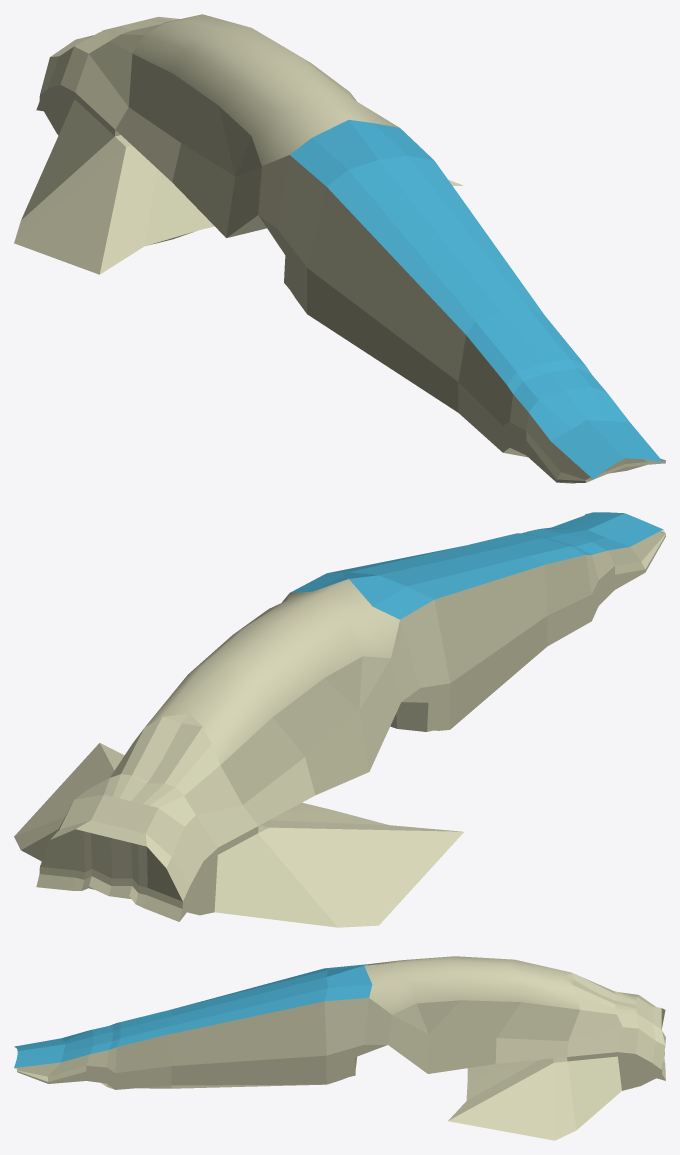
Rendered from Ship4.fbx.
3 renders of one model, top to bottom at view 1: azimuth 30°, elevation 25°; view 2: azimuth 150°, elevation 25°; view 3: azimuth 270°, elevation 25°, orthographic. The views are drawn at different scales.
Visible parts, largest first — view 1: Ship; view 2: Ship; view 3: Ship.
Boxes of the visible parts, <box> form: Ship: <box>14,14,665,483</box>; Ship: <box>14,512,665,927</box>; Ship: <box>14,956,665,1140</box>.
Size of the model in its own units: 335 by 173 by 827.
